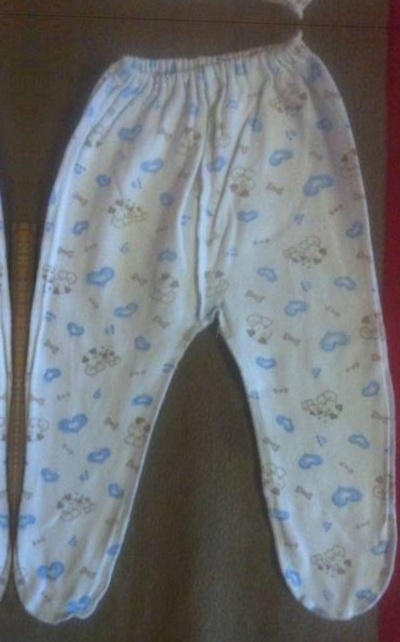Pants: (13, 28, 400, 635), (0, 14, 28, 621), (35, 0, 400, 15), (0, 0, 50, 1)
